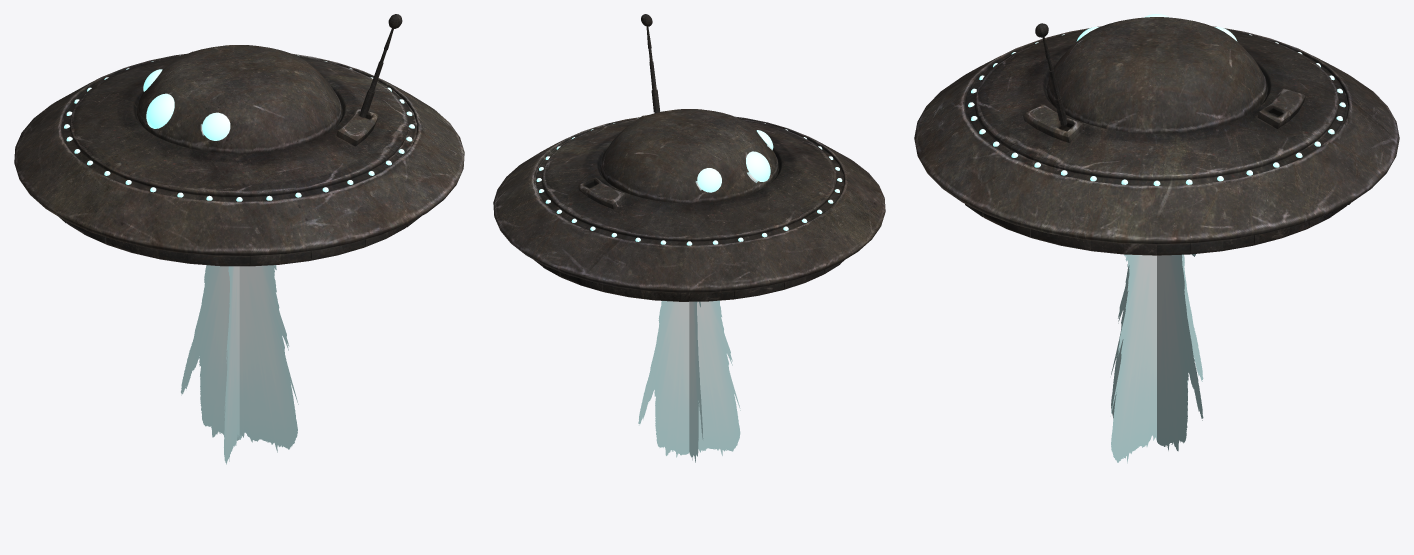
File: UFO.dae
3 views of the same model, side by side, from view 1: azimuth 30°, elevation 25°; view 2: azimuth 150°, elevation 25°; view 3: azimuth 270°, elevation 25° (orthographic). The views are drawn at different scales.
Parts seen in each view (by area): view 1: UFO8, Flame1, Light3; view 2: UFO8, Flame1, Light3; view 3: UFO8, Flame1, Light3.
Boxes of the visible parts, x1,y1,x2,y2 form: UFO8: [14, 14, 464, 266]; Flame1: [181, 265, 298, 464]; Light3: [64, 55, 414, 201]; UFO8: [493, 14, 885, 301]; Flame1: [638, 300, 740, 462]; Light3: [536, 118, 842, 245]; UFO8: [914, 17, 1399, 255]; Flame1: [1110, 254, 1203, 463]; Light3: [968, 14, 1345, 185].
Size of the model in its own units: 3.91 by 4.84 by 3.91.
Materials: 3 (3 with a texture image).
